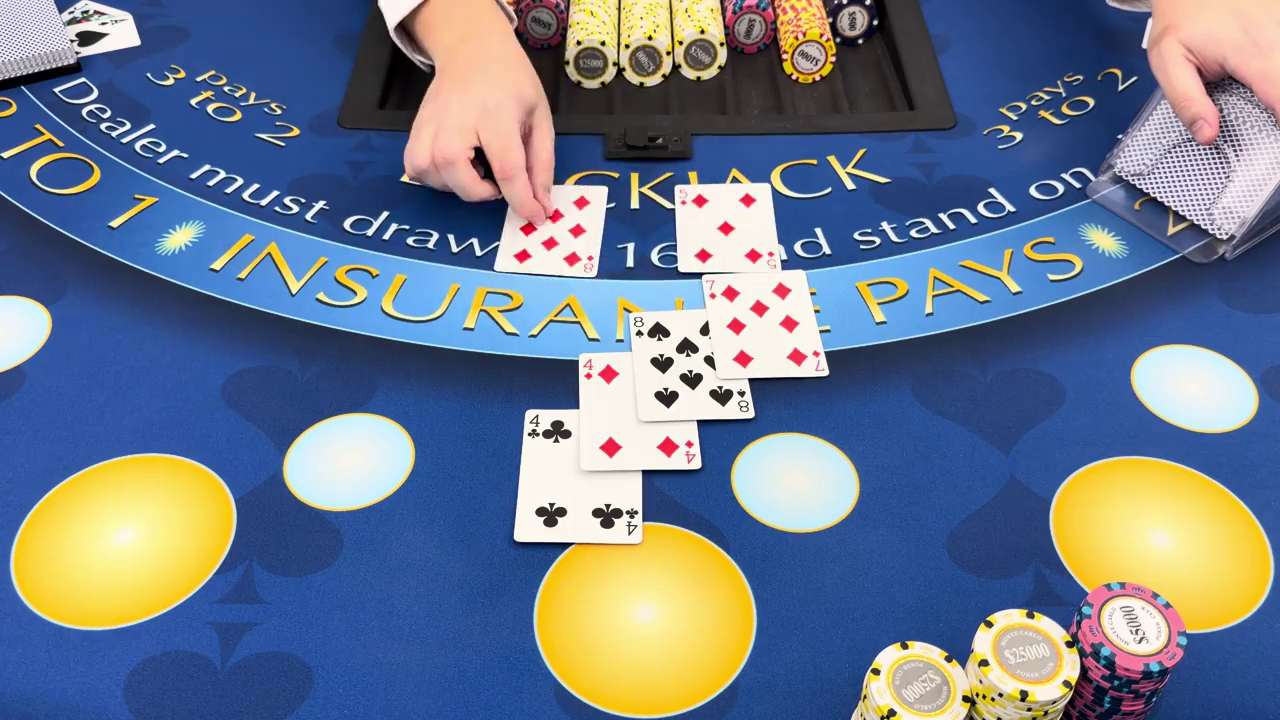4C: (623, 505, 641, 540), (527, 412, 544, 443)
4D: (681, 436, 699, 466), (581, 357, 598, 382)
5D: (762, 245, 779, 270), (676, 186, 691, 208)
7D: (807, 347, 828, 376), (702, 276, 722, 304)
8D: (582, 250, 596, 278)
8S: (732, 389, 751, 417), (629, 315, 647, 339)
